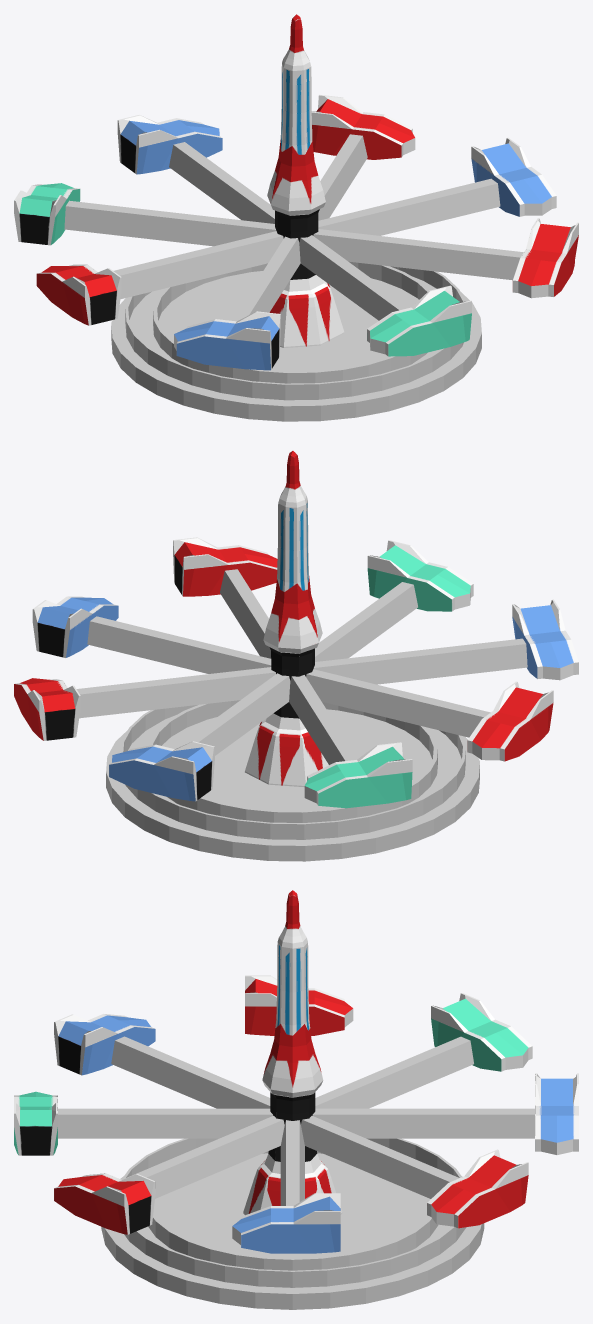
Rendered from CJland1.fbx.
The picture shows the model from 3 angles, top to bottom: view 1: azimuth 30°, elevation 25°; view 2: azimuth 150°, elevation 25°; view 3: azimuth 270°, elevation 25°; orthographic projection. The views are drawn at different scales.
Visible parts, largest first — view 1: Cube.003, Cylinder, Cube, Cube.006, Cube.008, Cube.010, Cube.011, Cube.005, Cube.012, Cube.007, Cube.009; view 2: Cube.003, Cylinder, Cube, Cube.009, Cube.011, Cube.006, Cube.012, Cube.007, Cube.008, Cube.005, Cube.010; view 3: Cylinder, Cube.003, Cube, Cube.005, Cube.010, Cube.007, Cube.009, Cube.008, Cube.012, Cube.011, Cube.006.
Boxes of the visible parts, x1=… form: Cube.003: x1=64, y1=134, x2=523, y2=321; Cylinder: x1=111, y1=261, x2=481, y2=421; Cube: x1=267, y1=14, x2=344, y2=347; Cube.006: x1=367, y1=285, x2=471, y2=356; Cube.008: x1=174, y1=311, x2=280, y2=370; Cube.010: x1=311, y1=94, x2=415, y2=159; Cube.011: x1=117, y1=115, x2=222, y2=174; Cube.005: x1=471, y1=137, x2=556, y2=216; Cube.012: x1=36, y1=264, x2=121, y2=325; Cube.007: x1=512, y1=218, x2=578, y2=298; Cube.009: x1=14, y1=183, x2=80, y2=245; Cube.003: x1=76, y1=569, x2=527, y2=764; Cylinder: x1=106, y1=700, x2=479, y2=861; Cube: x1=245, y1=451, x2=328, y2=787; Cube.009: x1=304, y1=742, x2=412, y2=808; Cube.011: x1=109, y1=741, x2=214, y2=801; Cube.006: x1=367, y1=540, x2=473, y2=611; Cube.012: x1=467, y1=681, x2=553, y2=761; Cube.007: x1=173, y1=537, x2=277, y2=596; Cube.008: x1=512, y1=599, x2=578, y2=680; Cube.005: x1=32, y1=596, x2=118, y2=657; Cube.010: x1=14, y1=678, x2=80, y2=740; Cylinder: x1=101, y1=1138, x2=484, y2=1309; Cube.003: x1=58, y1=1036, x2=534, y2=1205; Cube: x1=243, y1=890, x2=342, y2=1215; Cube.005: x1=232, y1=1193, x2=340, y2=1253; Cube.010: x1=427, y1=1149, x2=528, y2=1228; Cube.007: x1=54, y1=1173, x2=155, y2=1234; Cube.009: x1=431, y1=993, x2=532, y2=1071; Cube.008: x1=54, y1=1014, x2=155, y2=1075; Cube.012: x1=245, y1=975, x2=353, y2=1035; Cube.011: x1=535, y1=1073, x2=578, y2=1154; Cube.006: x1=14, y1=1091, x2=57, y2=1155.
Size of the model in its own units: 1493 by 999 by 1509.
